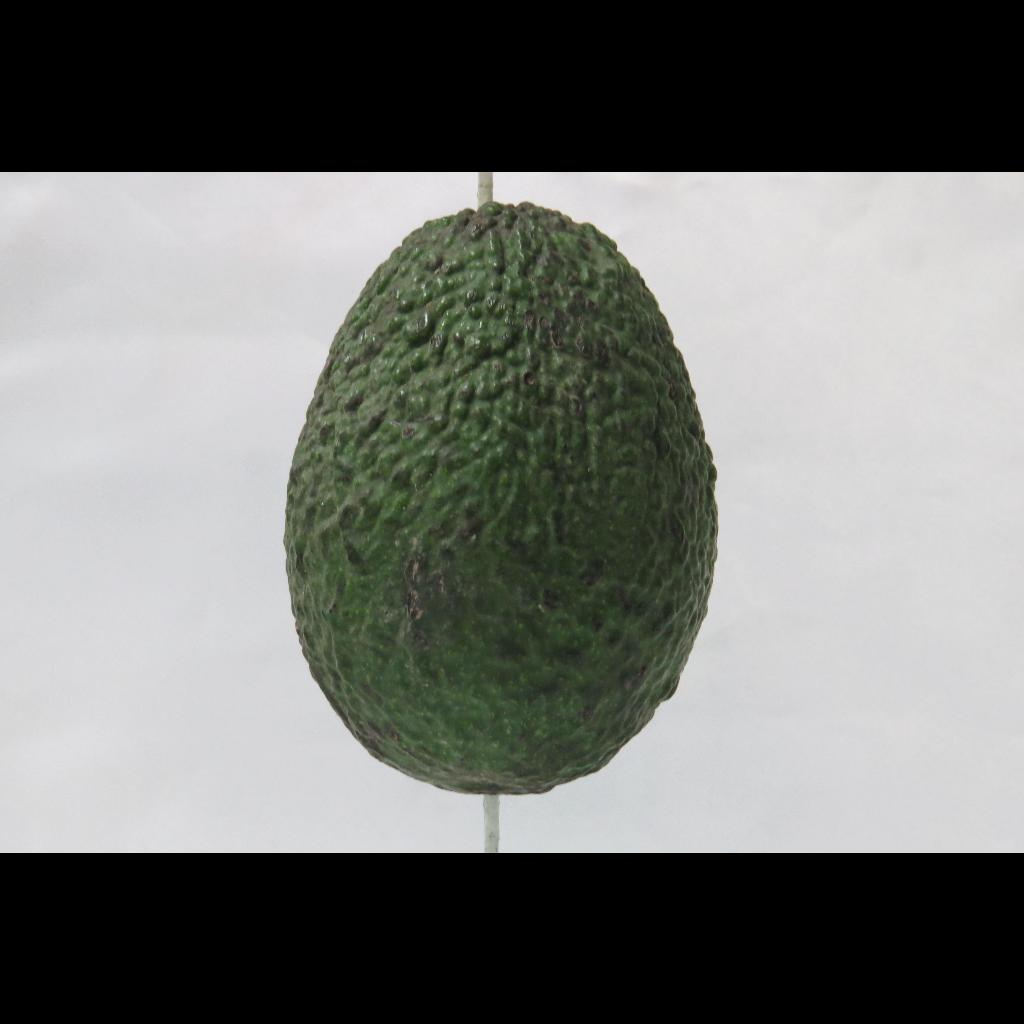Healthy: (242, 188, 756, 824)
